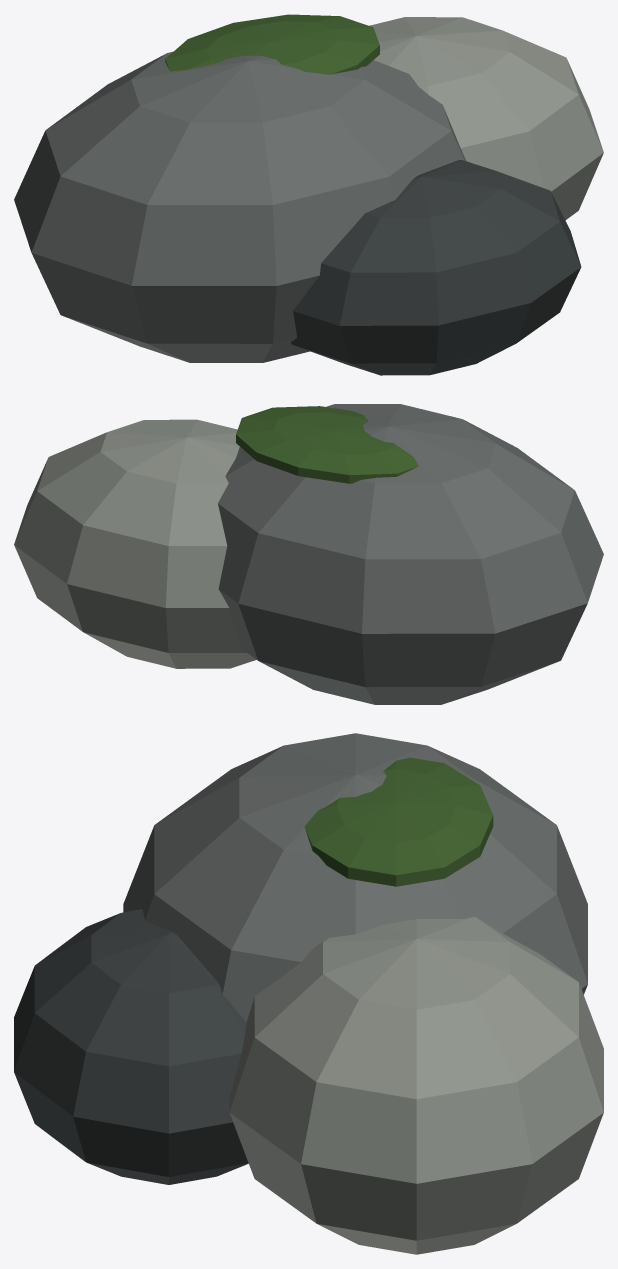
The model's file is MagicForestRock.obj.
3 renders of one model, top to bottom at view 1: azimuth 30°, elevation 25°; view 2: azimuth 150°, elevation 25°; view 3: azimuth 270°, elevation 25°, orthographic. The views are drawn at different scales.
Visible parts, largest first — view 1: RockMass0, RockMass2, RockMass1, MossPatch; view 2: RockMass0, RockMass1, MossPatch; view 3: RockMass1, RockMass0, RockMass2, MossPatch.
Boxes of the visible parts, <box> form: RockMass0: <box>14,51,466,362</box>; RockMass2: <box>291,160,581,375</box>; RockMass1: <box>369,17,603,220</box>; MossPatch: <box>165,14,379,74</box>; RockMass0: <box>218,404,603,704</box>; RockMass1: <box>14,419,256,668</box>; MossPatch: <box>236,406,418,483</box>; RockMass1: <box>229,917,603,1254</box>; RockMass0: <box>123,733,587,1021</box>; RockMass2: <box>14,909,248,1184</box>; MossPatch: <box>304,757,493,886</box>.
Size of the model in its own units: 2.42 by 1.1 by 1.74.
